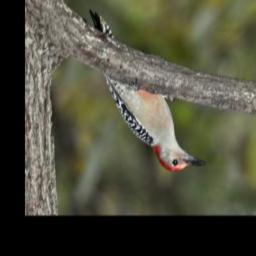Woodpecker: (88, 9, 207, 173)
